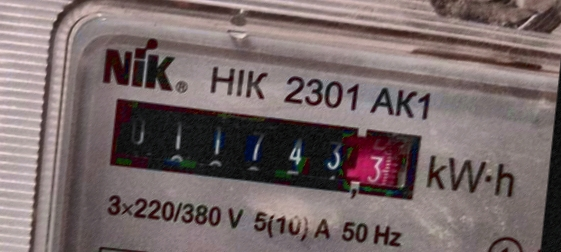0: (124, 111, 147, 149)
1: (207, 121, 225, 156), (170, 117, 184, 151)
3: (320, 136, 343, 173), (363, 153, 384, 188)
4: (283, 132, 304, 168)
7: (245, 127, 266, 163)
screen: (92, 85, 434, 214)
